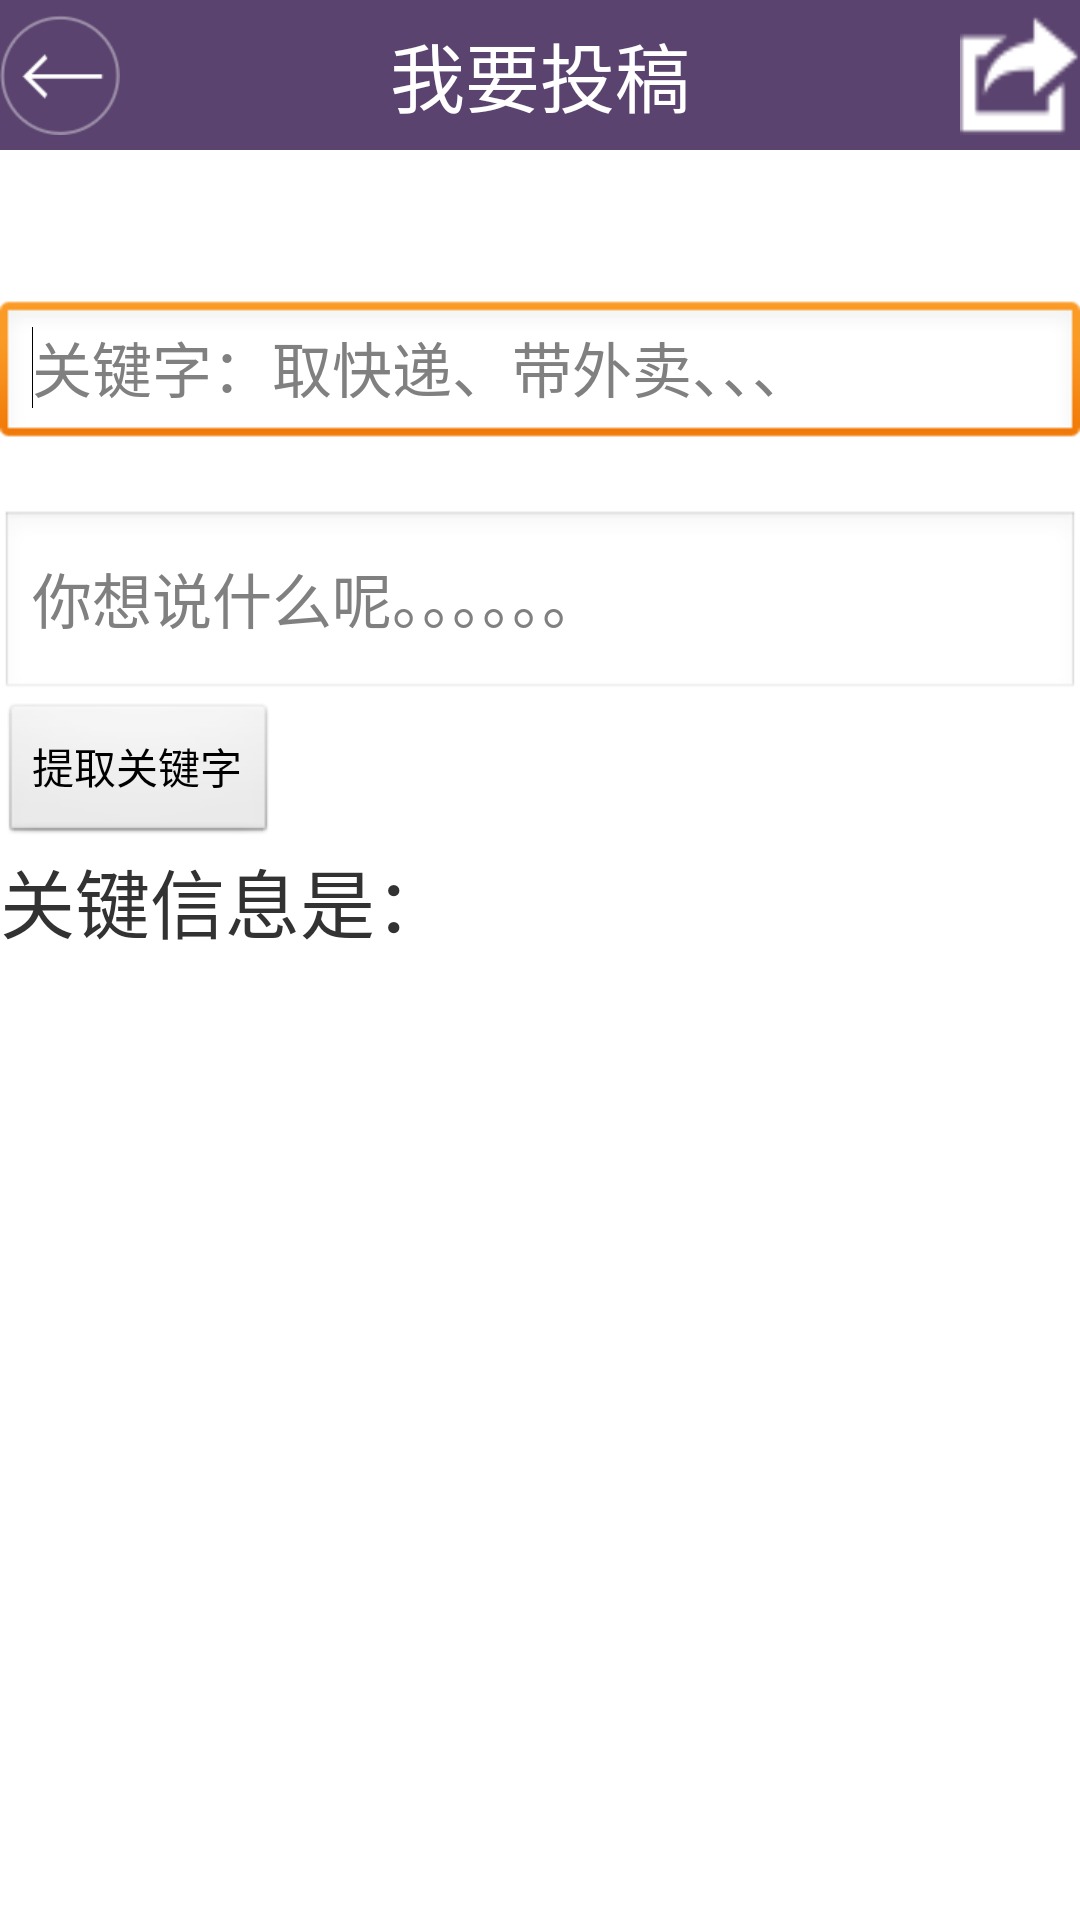

Icon bounding boxes for this 1080×1920 phone screenshot, format (x1, y1, x2, y2):
backtofriend: (0, 16, 120, 135)
publish: (960, 18, 1078, 133)
